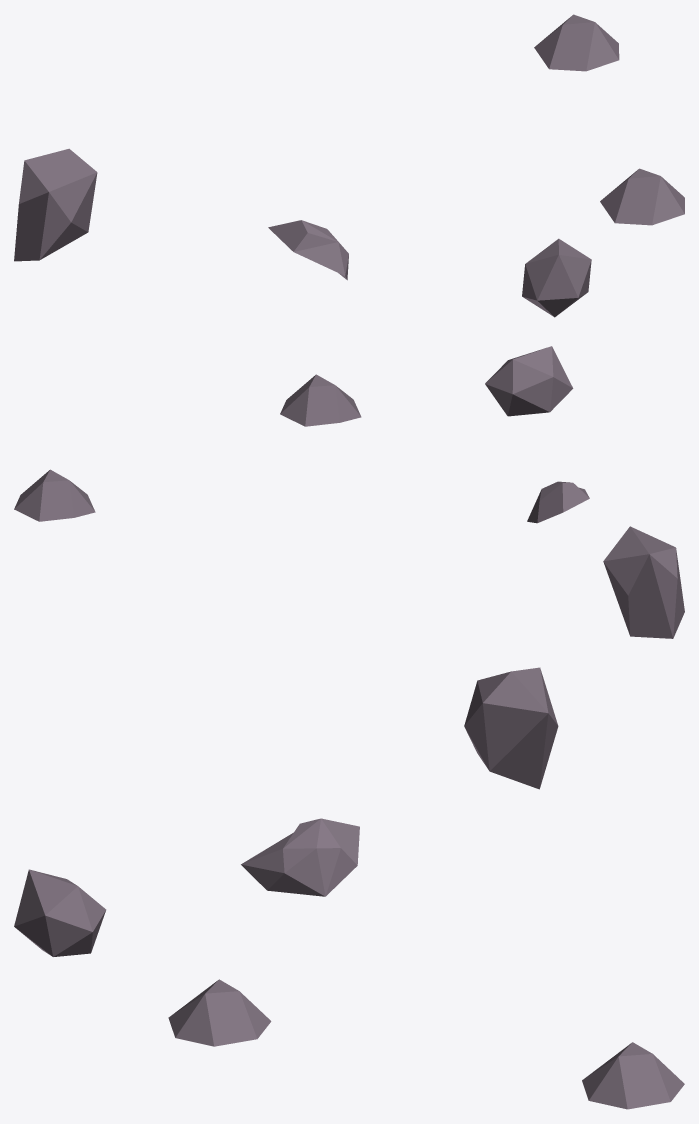
Rendered from Small_stone_v06.fbx.
3 renders of one model, top to bottom at view 1: azimuth 30°, elevation 25°; view 2: azimuth 150°, elevation 25°; view 3: azimuth 270°, elevation 25°, orthographic. The views are drawn at different scales.
Visible parts, largest first — view 1: Small_stone_v06; view 2: Small_stone_v06; view 3: Small_stone_v06.
Boxes of the visible parts, <box> form: Small_stone_v06: <box>14,14,684,317</box>; Small_stone_v06: <box>14,346,684,638</box>; Small_stone_v06: <box>14,667,684,1109</box>.
Bounding box in the file's own units: 109 × 16.93 × 82.23.
Materials: 1 (1 with a texture image).
